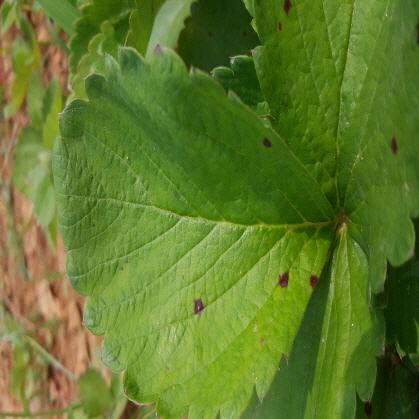Leaf Spot: (51, 41, 338, 418), (245, 0, 418, 295), (174, 0, 262, 77)
